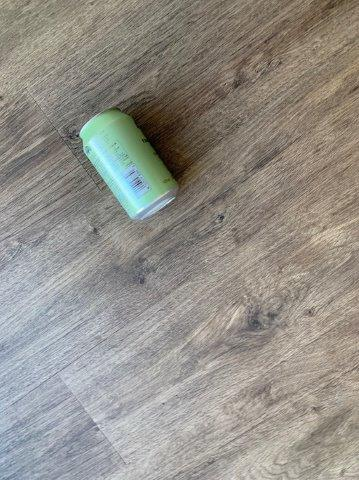kaleng: (80, 109, 177, 220)
